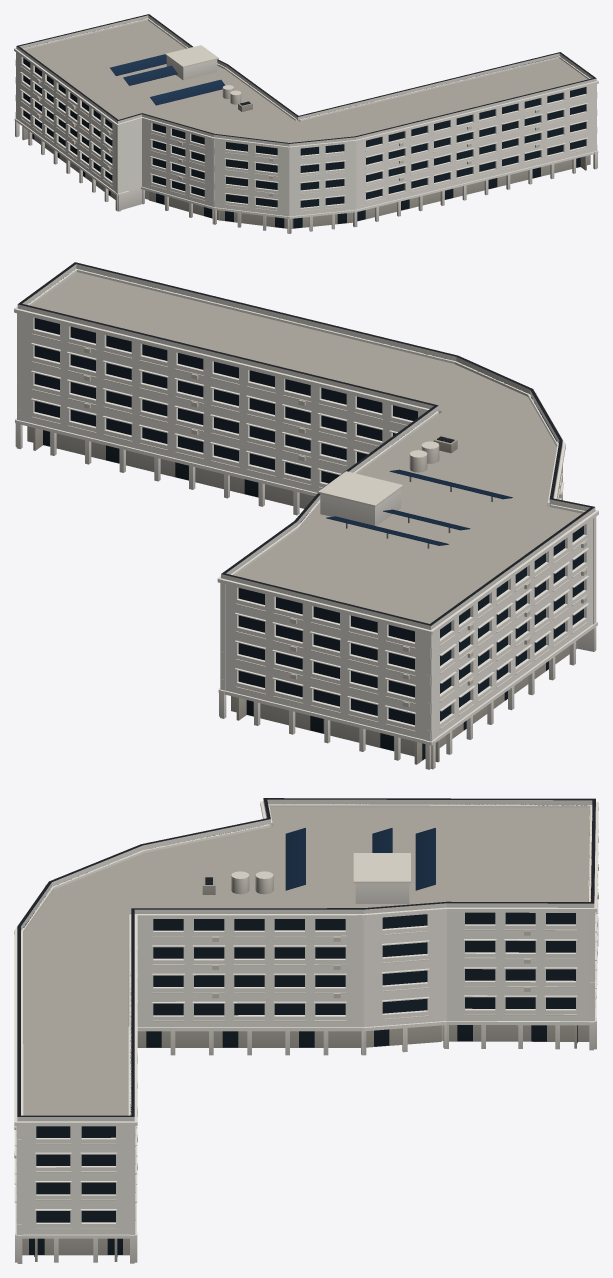
Rendered from m_block.glb.
The picture shows the model from 3 angles, top to bottom: view 1: azimuth 30°, elevation 25°; view 2: azimuth 150°, elevation 25°; view 3: azimuth 270°, elevation 25°; orthographic projection. The views are drawn at different scales.
Parts seen in each view (by area): view 1: LOD0_High_StuccoWhite, LOD0_High_RoofSlabConcrete, LOD1_Medium_StuccoWhite, LOD1_Medium_RecessedCavityGlass, LOD0_High_StuccoWarmTrim, LOD0_High_DarkAnodizedSteel, LOD0_High_SolarPV, LOD0_High_RecessedCavityGlass, LOD0_High_ConcreteMuted; view 2: LOD0_High_StuccoWhite, LOD0_High_RoofSlabConcrete, LOD1_Medium_StuccoWhite, LOD1_Medium_RecessedCavityGlass, LOD0_High_StuccoWarmTrim, LOD0_High_DarkAnodizedSteel, LOD0_High_SolarPV, LOD0_High_RecessedCavityGlass, LOD0_High_ConcreteMuted; view 3: LOD0_High_RoofSlabConcrete, LOD0_High_StuccoWhite, LOD1_Medium_StuccoWhite, LOD1_Medium_RecessedCavityGlass, LOD0_High_StuccoWarmTrim, LOD0_High_DarkAnodizedSteel, LOD0_High_SolarPV, LOD0_High_RecessedCavityGlass.
Boxes of the visible parts, x1,y1,x2,y2 form: LOD0_High_StuccoWhite: (14,15,598,233); LOD0_High_RoofSlabConcrete: (24,20,587,142); LOD1_Medium_StuccoWhite: (15,54,597,216); LOD1_Medium_RecessedCavityGlass: (22,19,585,207); LOD0_High_StuccoWarmTrim: (21,45,590,228); LOD0_High_DarkAnodizedSteel: (16,14,596,143); LOD0_High_SolarPV: (110,54,225,105); LOD0_High_RecessedCavityGlass: (32,134,580,228); LOD0_High_ConcreteMuted: (37,79,539,196); LOD0_High_StuccoWhite: (14,264,598,769); LOD0_High_RoofSlabConcrete: (31,272,581,623); LOD1_Medium_StuccoWhite: (17,314,592,741); LOD1_Medium_RecessedCavityGlass: (30,270,583,725); LOD0_High_StuccoWarmTrim: (27,333,587,764); LOD0_High_DarkAnodizedSteel: (18,262,594,625); LOD0_High_SolarPV: (326,469,512,545); LOD0_High_RecessedCavityGlass: (43,430,548,760); LOD0_High_ConcreteMuted: (84,347,586,707); LOD0_High_RoofSlabConcrete: (23,807,589,1115); LOD0_High_StuccoWhite: (14,798,598,1263); LOD1_Medium_StuccoWhite: (16,805,594,1234); LOD1_Medium_RecessedCavityGlass: (23,804,591,1222); LOD0_High_StuccoWarmTrim: (16,853,595,1261); LOD0_High_DarkAnodizedSteel: (17,798,595,1116); LOD0_High_SolarPV: (285,828,435,890); LOD0_High_RecessedCavityGlass: (29,1025,577,1256).
Size of the model in its own units: 87.95 by 20.97 by 67.64.
